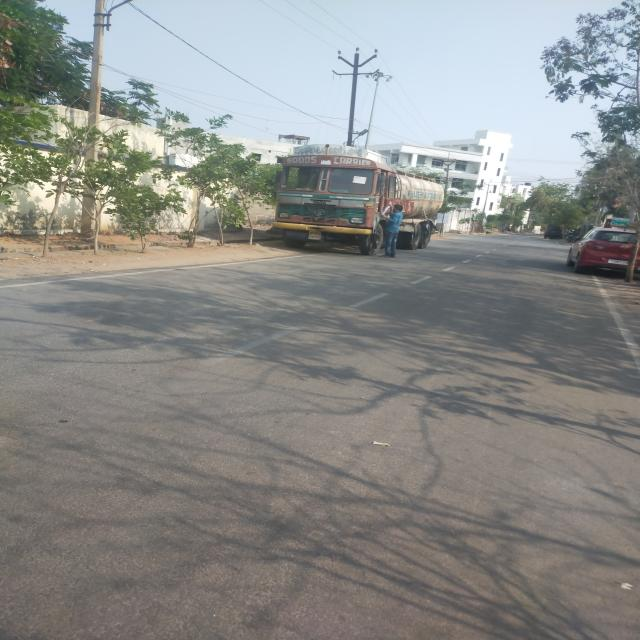Bike: (567, 229, 577, 245)
Car: (575, 216, 640, 278), (544, 224, 563, 238)
Truck: (262, 136, 473, 258)
